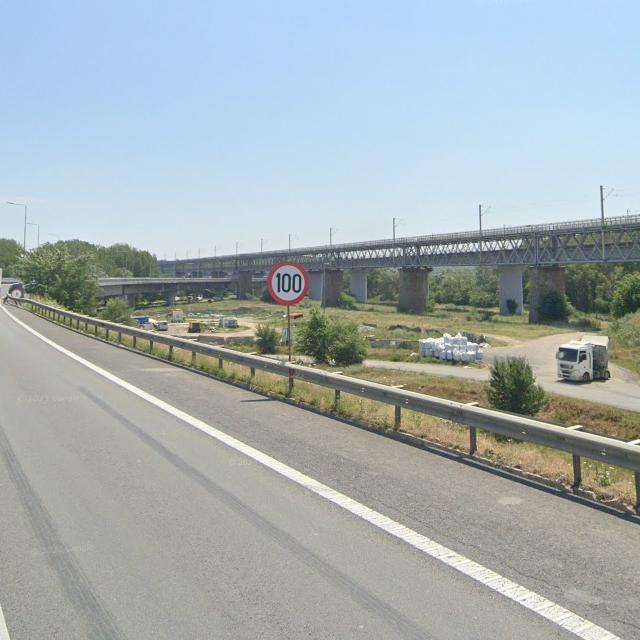forb_speed_over_100: (267, 260, 309, 306)
